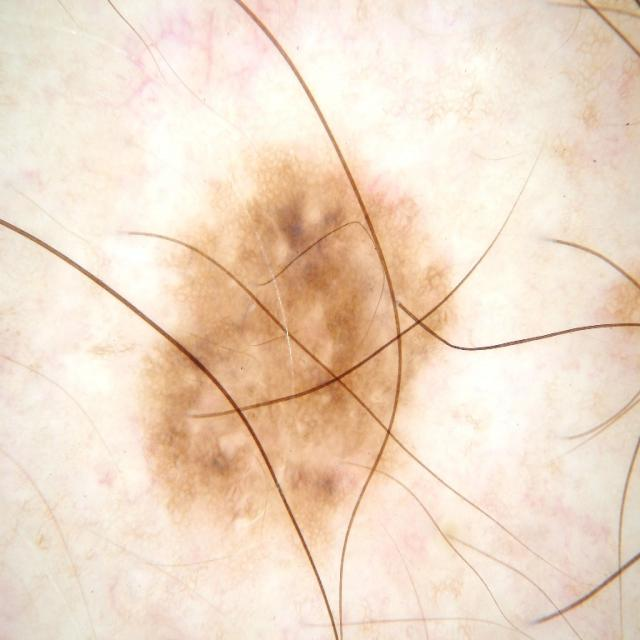Skin-Cancer Melanoma: (114, 72, 569, 568)
